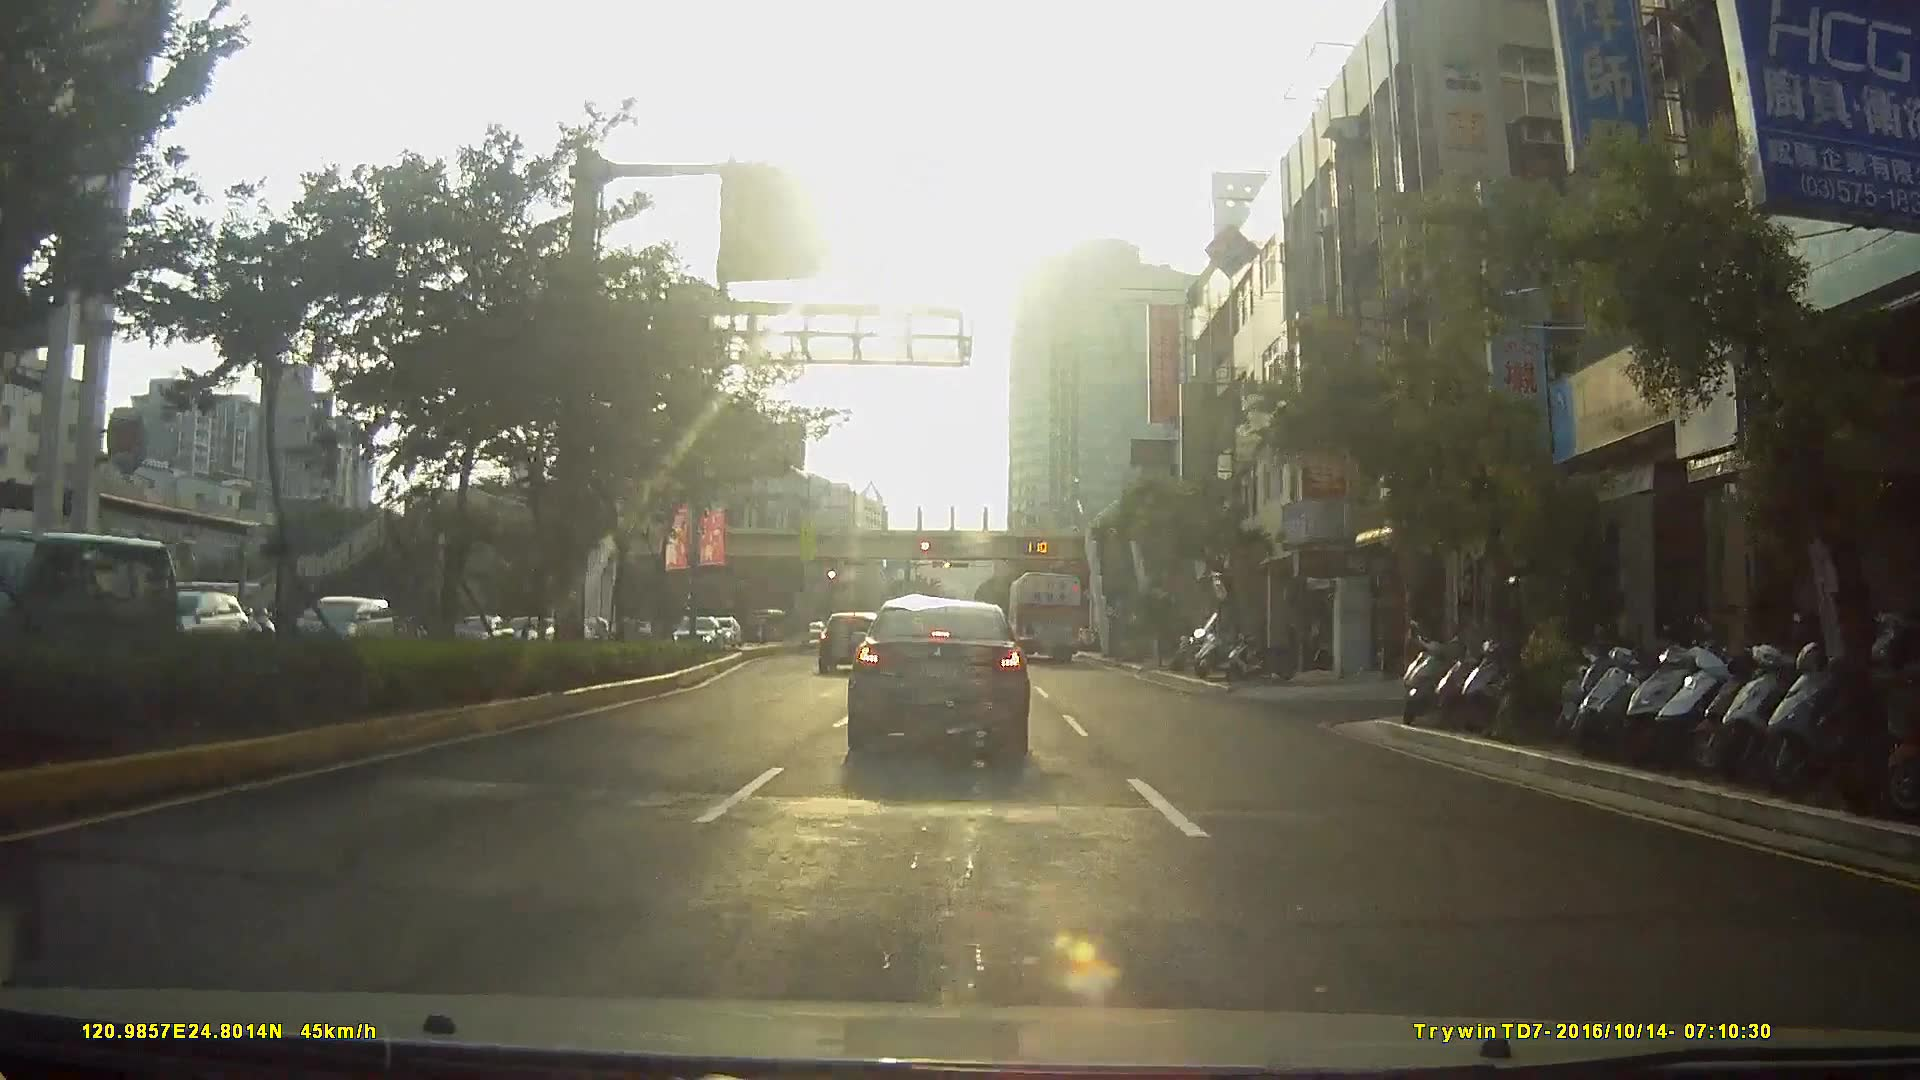vehicle: (844, 593, 1030, 757), (1, 530, 175, 684), (1005, 568, 1084, 665), (284, 593, 392, 657), (815, 607, 884, 675), (665, 611, 724, 651)
